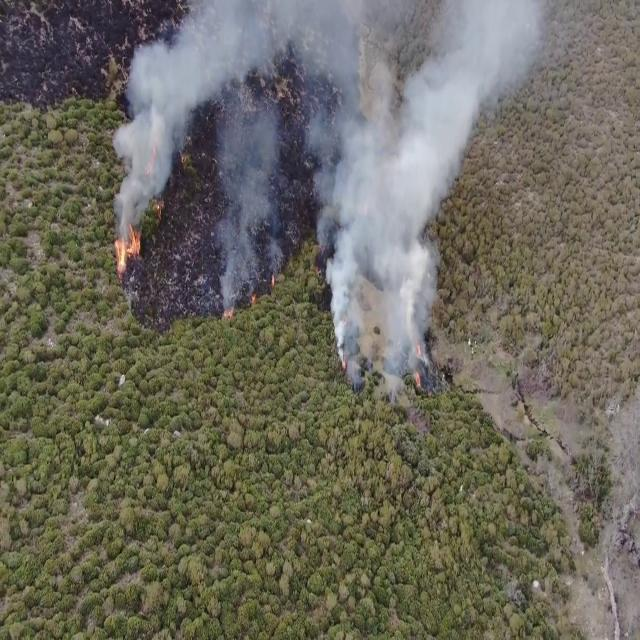Fire: (114, 222, 142, 276)
Smoke: (309, 1, 523, 388), (112, 1, 296, 297)
